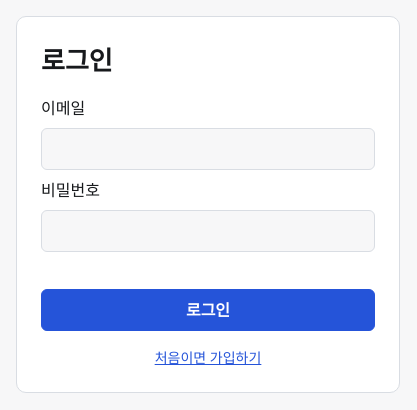
Test: 가입·로그인 › 로그인이 틀리면 폼에 보이고 로그인 화면에 머문다(전역 인증 규칙을 타지 않는다)
This screenshot has width=417, height=410.
Type "kim@example.com" into the field labelled "이메일" at coordinates (208, 149), box [41, 128, 375, 170]
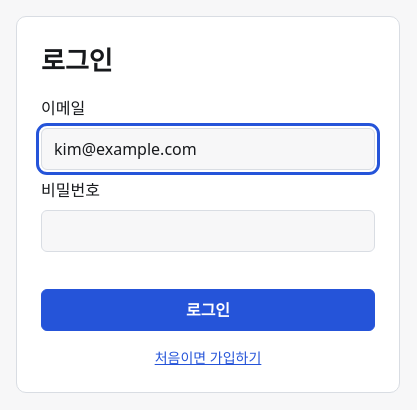
Type "wrong-pass" into the password field labelled "비밀번호" at coordinates (208, 231), box [41, 210, 375, 252]
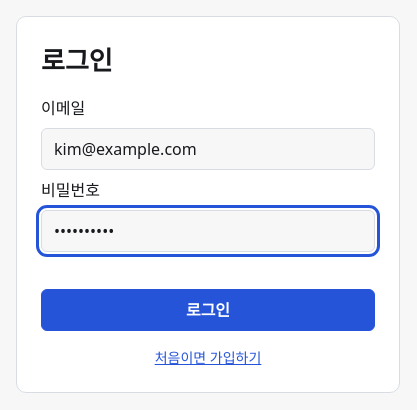
Click the button "로그인" at coordinates (208, 310), box [41, 289, 375, 331]
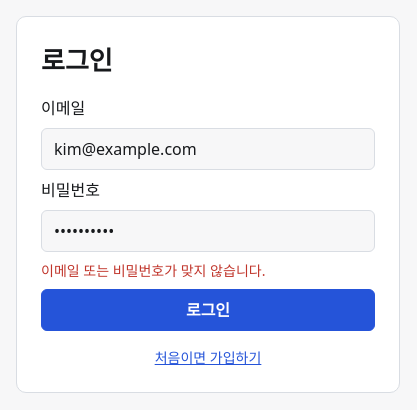
Expected: the text "이메일 또는 비밀번호가 맞지 않습니다." is shown, [41, 261, 265, 280]
